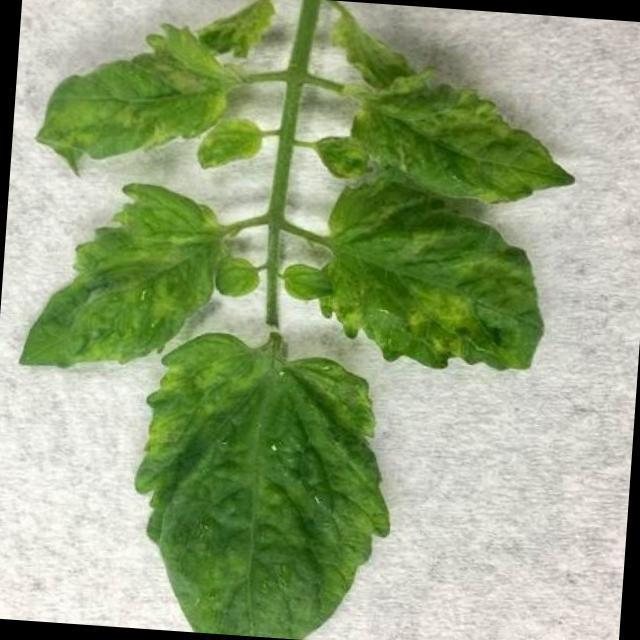Mosaic Virus: (131, 346, 404, 640), (8, 182, 230, 394), (294, 198, 552, 376), (328, 52, 584, 212), (45, 48, 246, 172), (192, 116, 274, 172)
